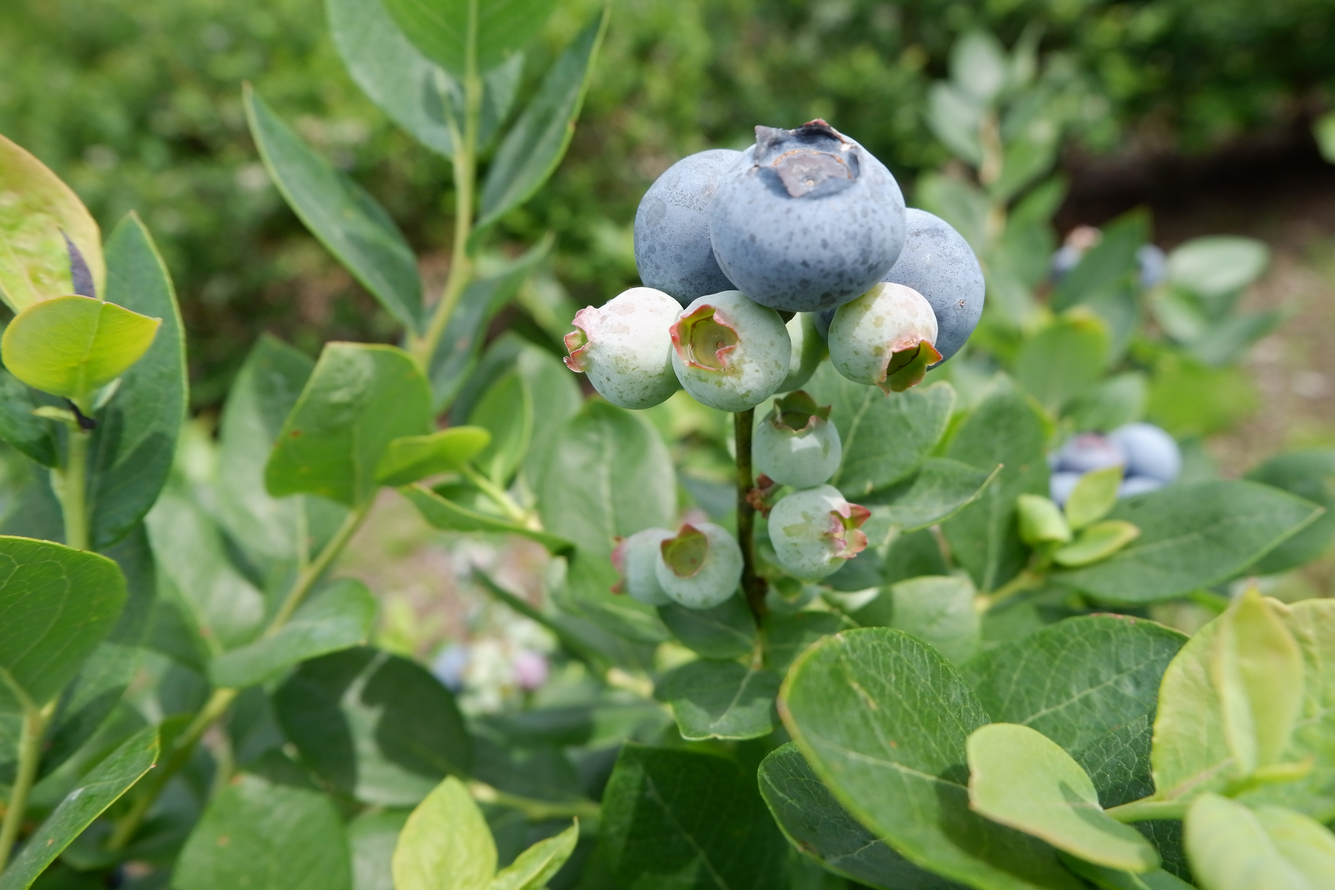Immature: (673, 292, 789, 410), (569, 290, 678, 407), (831, 285, 933, 387), (771, 489, 865, 581), (756, 397, 840, 487), (659, 519, 741, 606), (612, 530, 671, 605), (777, 313, 826, 392)
Mature: (713, 123, 903, 308), (638, 153, 737, 300), (890, 208, 982, 359)
